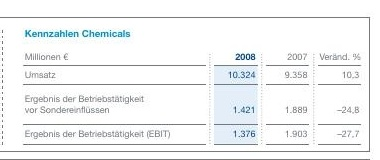table: (0, 0, 380, 160)
